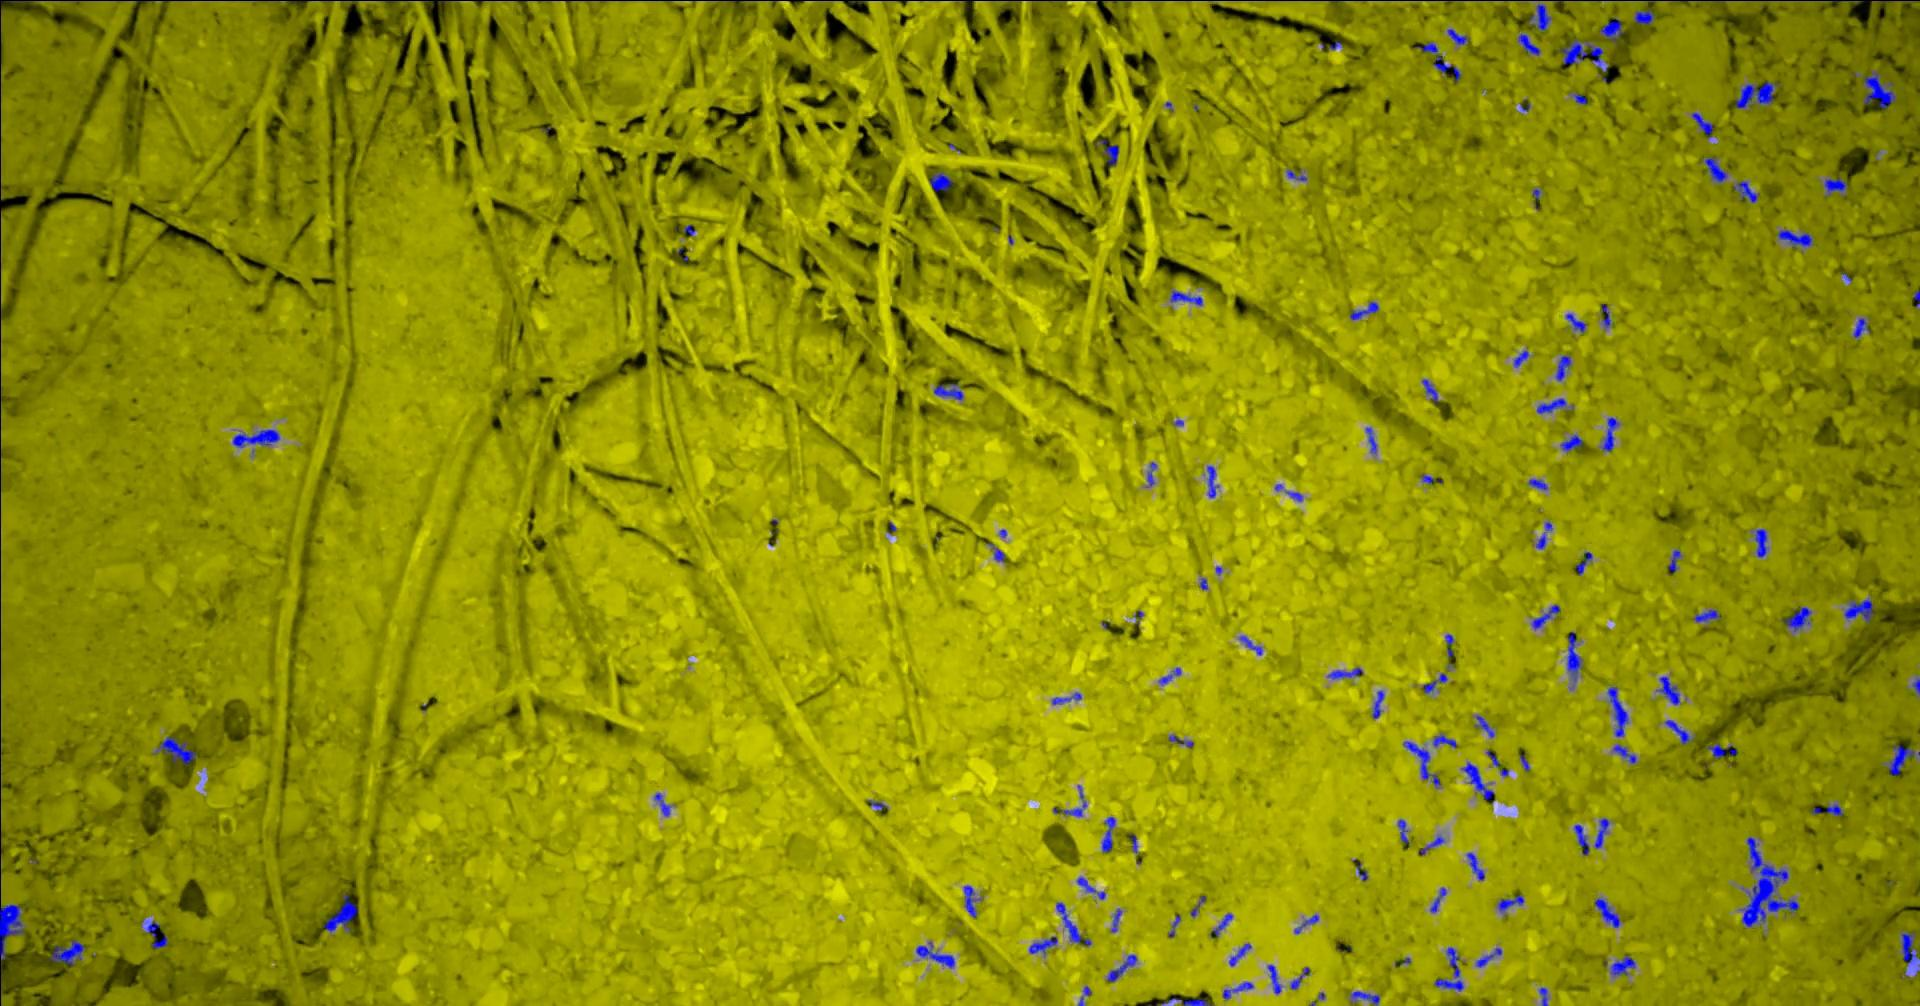ant: (1415, 41, 1460, 83), (1402, 741, 1440, 788), (1559, 38, 1608, 71), (1055, 902, 1090, 945), (1462, 761, 1495, 803), (323, 893, 357, 932), (0, 904, 24, 960), (1434, 946, 1463, 989), (1735, 80, 1779, 108), (1862, 71, 1895, 108), (152, 735, 196, 763), (1051, 785, 1086, 815), (1608, 686, 1628, 735), (1887, 744, 1919, 775), (916, 941, 954, 967), (50, 939, 84, 965), (1566, 631, 1582, 682), (232, 429, 279, 447), (1106, 954, 1137, 981), (1594, 898, 1620, 927), (1900, 932, 1919, 972), (1782, 606, 1811, 631), (1663, 719, 1693, 744), (1843, 598, 1873, 622), (1655, 676, 1680, 704), (1531, 605, 1559, 629), (1076, 876, 1105, 899), (1528, 3, 1550, 30), (1777, 229, 1812, 246), (1605, 955, 1636, 976), (1702, 158, 1727, 182), (1599, 17, 1622, 43), (1095, 138, 1117, 165), (963, 885, 982, 917), (1691, 112, 1713, 138), (1601, 417, 1618, 451), (1222, 981, 1253, 998), (1228, 942, 1251, 967), (1732, 180, 1757, 202), (1465, 852, 1484, 880), (1592, 817, 1609, 848), (1210, 913, 1232, 937), (1349, 301, 1378, 319), (1422, 673, 1448, 694), (1101, 815, 1115, 852), (1170, 290, 1203, 305), (1029, 936, 1057, 954), (1293, 915, 1318, 934), (1476, 948, 1501, 967), (1517, 33, 1539, 55), (1239, 635, 1262, 655), (1349, 989, 1379, 1005), (1611, 744, 1636, 763), (1429, 887, 1446, 912), (1497, 894, 1523, 912), (933, 384, 963, 399), (1537, 398, 1566, 413), (1707, 742, 1736, 757), (1573, 824, 1589, 854), (1564, 312, 1586, 333), (930, 171, 952, 191), (1823, 178, 1848, 196), (1575, 551, 1592, 575), (1420, 836, 1444, 854), (1476, 715, 1495, 737), (1290, 967, 1309, 988), (1267, 964, 1281, 993), (1327, 667, 1363, 678), (1811, 803, 1843, 815), (1421, 379, 1437, 403), (1559, 434, 1583, 451), (653, 793, 669, 815), (1754, 528, 1766, 558), (1206, 465, 1218, 497), (1446, 28, 1468, 44), (1158, 667, 1180, 683), (1556, 354, 1570, 380), (987, 542, 1004, 561), (1667, 549, 1680, 575), (1693, 608, 1719, 621), (1432, 733, 1457, 747), (140, 920, 160, 936), (1051, 692, 1081, 704), (1633, 9, 1655, 24), (1371, 690, 1383, 718), (1853, 318, 1869, 337), (1168, 734, 1192, 747), (1397, 819, 1410, 843), (1365, 427, 1377, 453), (1110, 908, 1121, 932), (1077, 984, 1090, 1005), (1512, 351, 1528, 367), (1145, 461, 1156, 485), (1600, 304, 1610, 326), (867, 799, 888, 810), (151, 934, 168, 948), (1421, 474, 1443, 484), (1286, 169, 1305, 180), (1528, 478, 1547, 489), (1356, 861, 1368, 880), (1444, 633, 1453, 657), (1572, 91, 1587, 104), (1180, 998, 1209, 1005), (1539, 987, 1547, 1005)
